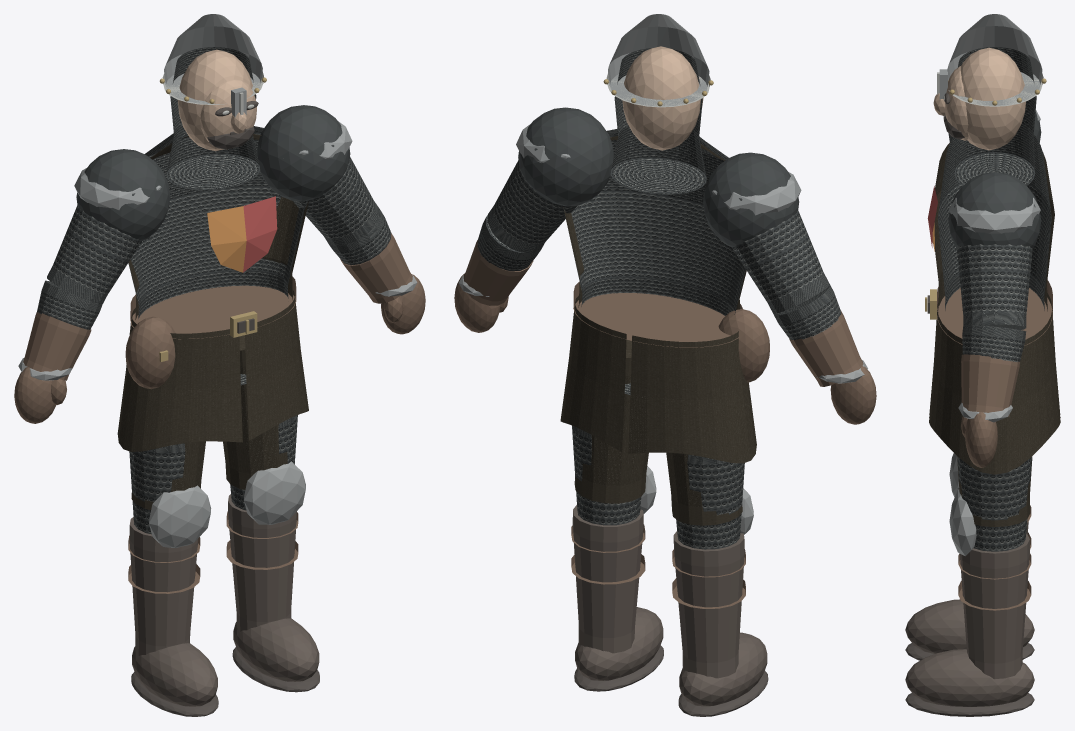
File: medieval_guard.glb
The picture shows the model from 3 angles, left to right: view 1: azimuth 30°, elevation 25°; view 2: azimuth 150°, elevation 25°; view 3: azimuth 270°, elevation 25°; orthographic projection. The views are drawn at different scales.
Visible parts, largest first — view 1: Mail hauberk, Split tunic panel -1 1, Leather boot shaft -1, Mail shoulder 1, Leather boot shaft 1, Split tunic panel 1 1, Mail upper arm -1, Mail shoulder -1, Mail coif neck, Waist belt, Boot foot 1, Boot foot -1 (+24 smaller); view 2: Mail hauberk, Split tunic panel -1 -1, Leather boot shaft -1, Leather boot shaft 1, Mail shoulder 1, Split tunic panel 1 -1, Head, Waist belt, Mail coif neck, Mail upper arm -1, Mail shoulder -1, Mail leg -1 (+18 smaller); view 3: Leather boot shaft 1, Split tunic panel 1 -1, Mail upper arm 1, Boot foot 1, Head, Mail leg 1, Mail hauberk, Mail shoulder 1, Mail coif neck, Split tunic panel 1 1, Conical nasal helmet, Leather vambrace 1 (+16 smaller).
Part boxes in pixels (x1=…): Mail hauberk: x1=128, y1=126, x2=305, y2=385; Split tunic panel -1 1: x1=123, y1=324, x2=242, y2=451; Leather boot shaft -1: x1=129, y1=517, x2=198, y2=655; Mail shoulder 1: x1=256, y1=105, x2=350, y2=201; Leather boot shaft 1: x1=228, y1=494, x2=296, y2=631; Split tunic panel 1 1: x1=245, y1=290, x2=308, y2=440; Mail upper arm -1: x1=47, y1=205, x2=141, y2=304; Mail shoulder -1: x1=76, y1=149, x2=170, y2=240; Mail coif neck: x1=166, y1=47, x2=260, y2=189; Waist belt: x1=130, y1=276, x2=296, y2=339; Boot foot 1: x1=233, y1=618, x2=319, y2=681; Boot foot -1: x1=132, y1=643, x2=217, y2=706; Mail hauberk: x1=563, y1=129, x2=745, y2=394; Split tunic panel -1 -1: x1=628, y1=333, x2=750, y2=463; Leather boot shaft -1: x1=673, y1=531, x2=744, y2=678; Leather boot shaft 1: x1=572, y1=505, x2=643, y2=653; Mail shoulder 1: x1=518, y1=107, x2=614, y2=206; Split tunic panel 1 -1: x1=560, y1=295, x2=626, y2=451; Head: x1=622, y1=46, x2=700, y2=150; Waist belt: x1=573, y1=281, x2=742, y2=347; Mail coif neck: x1=610, y1=48, x2=706, y2=194; Mail upper arm -1: x1=731, y1=211, x2=829, y2=313; Mail shoulder -1: x1=703, y1=152, x2=799, y2=246; Mail leg -1: x1=676, y1=454, x2=744, y2=549; Leather boot shaft 1: x1=959, y1=533, x2=1029, y2=679; Split tunic panel 1 -1: x1=994, y1=310, x2=1060, y2=474; Mail upper arm 1: x1=957, y1=244, x2=1032, y2=329; Boot foot 1: x1=905, y1=649, x2=1034, y2=706; Head: x1=960, y1=47, x2=1025, y2=150; Mail leg 1: x1=957, y1=456, x2=1032, y2=551; Mail hauberk: x1=937, y1=134, x2=1051, y2=310; Mail shoulder 1: x1=948, y1=172, x2=1041, y2=248; Mail coif neck: x1=954, y1=47, x2=1036, y2=185; Split tunic panel 1 1: x1=929, y1=310, x2=994, y2=474; Conical nasal helmet: x1=947, y1=14, x2=1042, y2=105; Leather vambrace 1: x1=961, y1=354, x2=1019, y2=416.
Bounding box in the file's own units: 1.25 × 1.93 × 0.4079.
11 materials, 2 textured.
